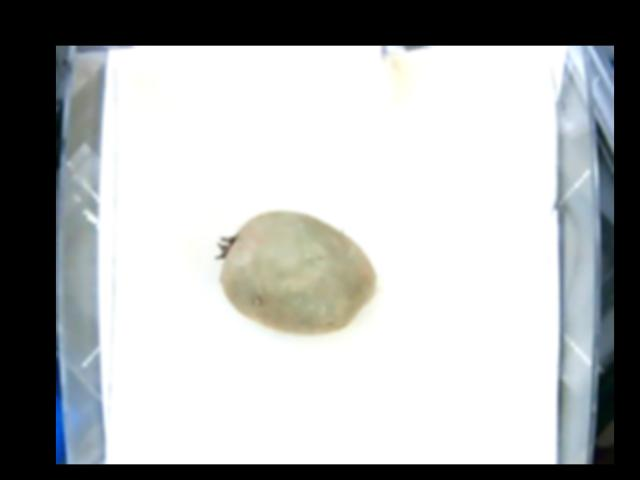Potato: (216, 207, 377, 338)
